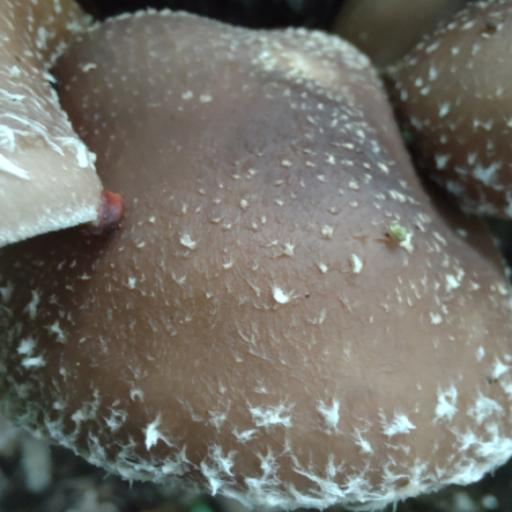Shiitake Mushroom: (0, 0, 512, 495)
